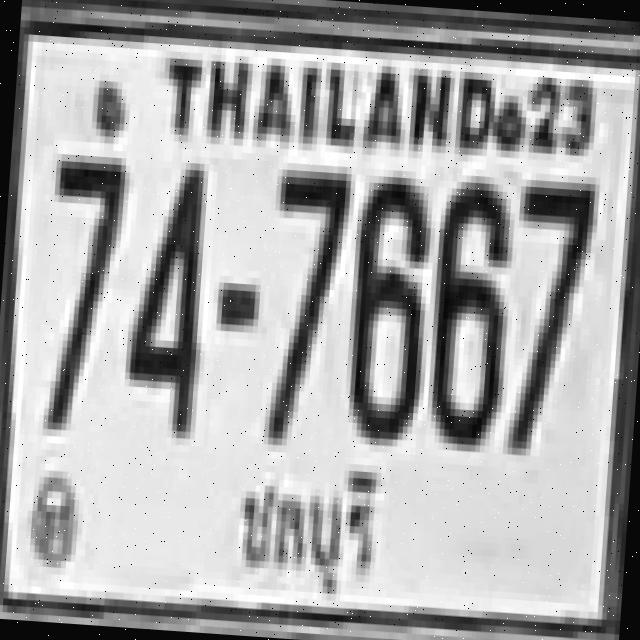4: (121, 152, 209, 432)
6: (420, 173, 512, 446), (342, 168, 430, 440)
7: (34, 149, 126, 429), (258, 162, 346, 442), (502, 172, 590, 452), (506, 172, 590, 396), (265, 162, 347, 352)
Chonburi: (223, 456, 390, 603)
